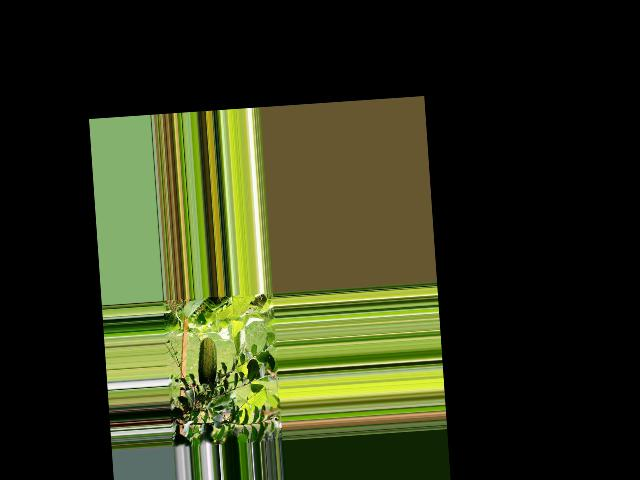cucumber: (195, 337, 218, 391)
